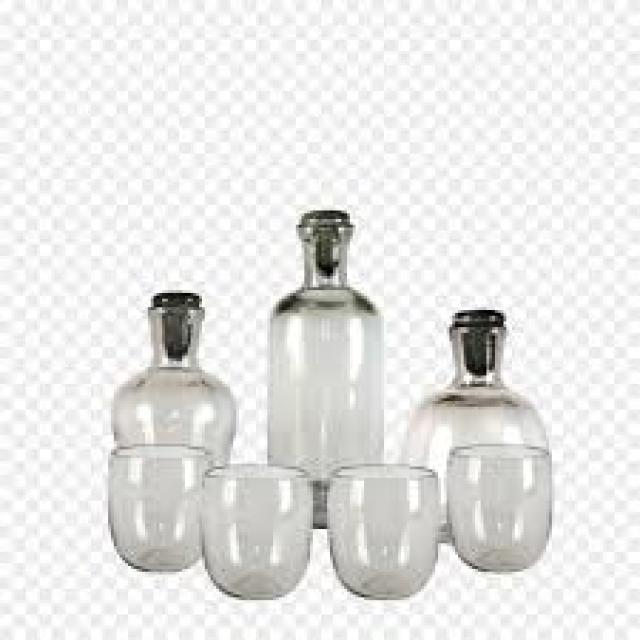Glass: (270, 208, 384, 526), (400, 306, 550, 536), (113, 286, 239, 473), (197, 461, 312, 599), (328, 464, 440, 598), (443, 441, 553, 573), (110, 444, 217, 573)
